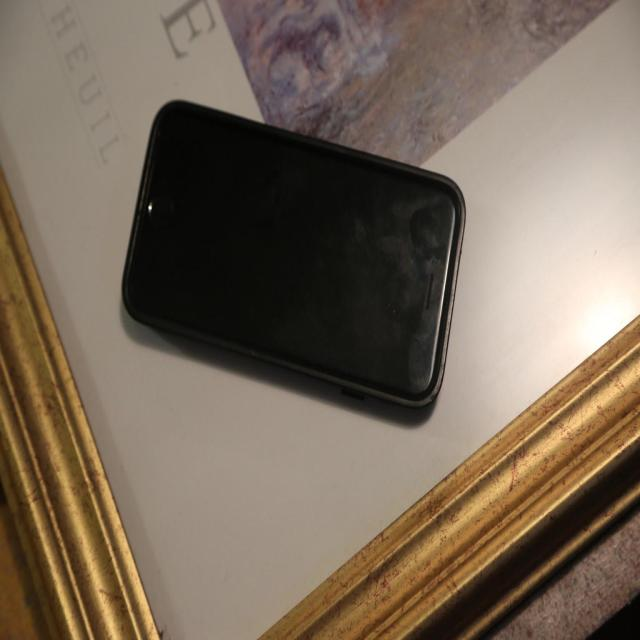Phone: (119, 95, 468, 421)
